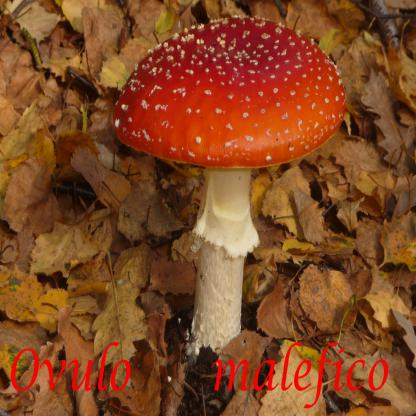Mushroom: (114, 13, 345, 355)
